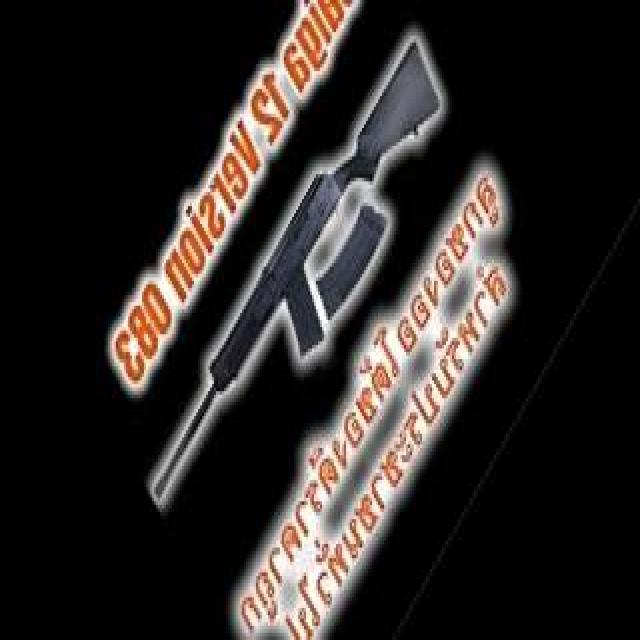weapon: (152, 39, 442, 502)
